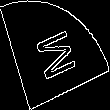M_W: (30, 25, 80, 85)
